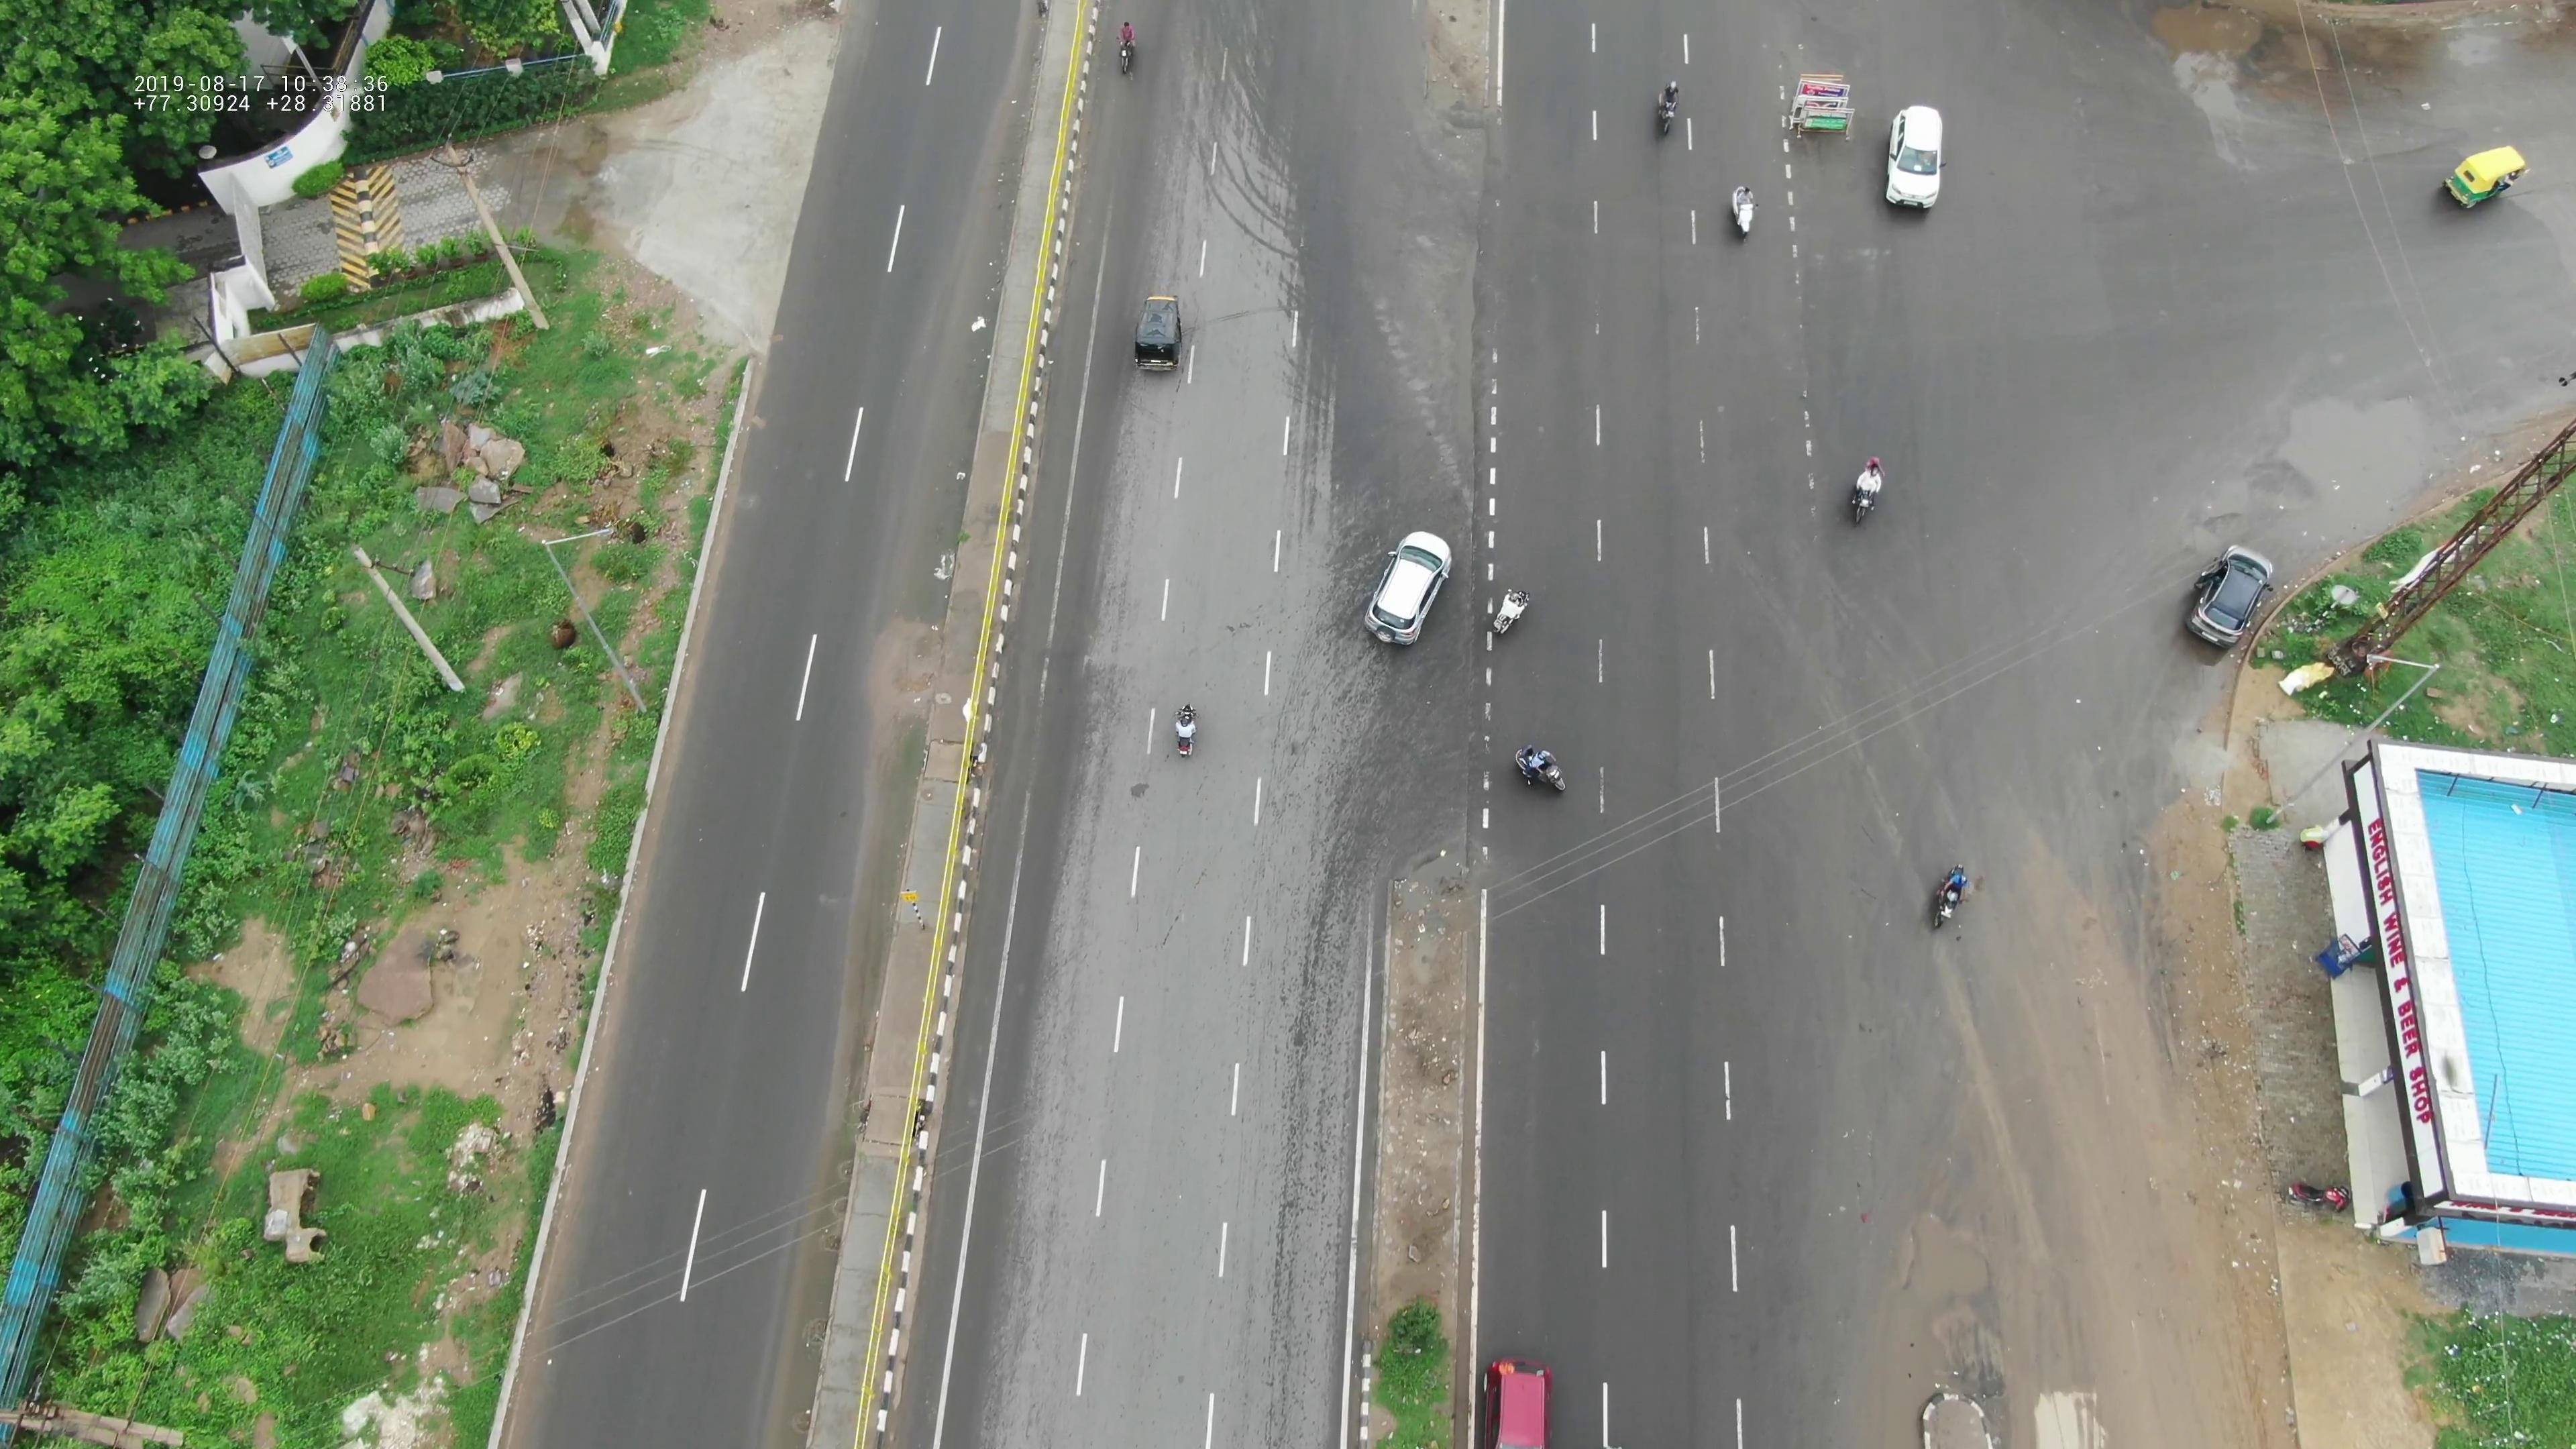Muddy_road: (2130, 801, 2238, 1049), (2150, 0, 2403, 80)
